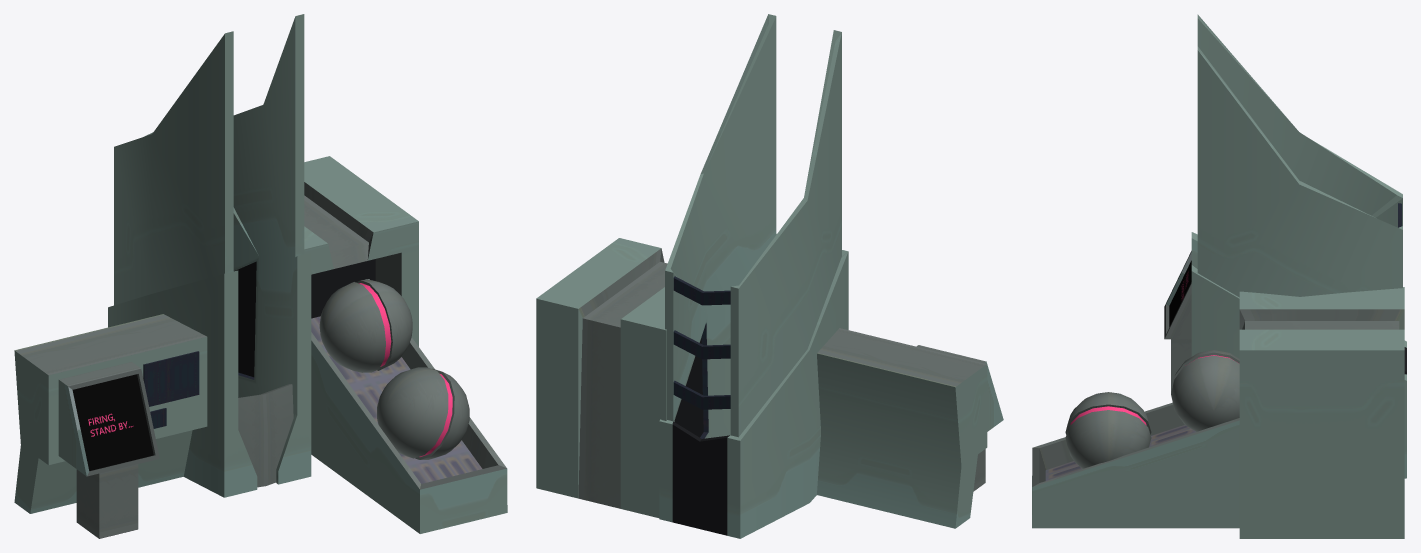
The model's file is AtlasCannon.fbx.
3 renders of one model, left to right at view 1: azimuth 30°, elevation 25°; view 2: azimuth 150°, elevation 25°; view 3: azimuth 270°, elevation 25°, orthographic. The views are drawn at different scales.
Parts seen in each view (by area): view 1: AtlasCannon, AtlasCannon.001; view 2: AtlasCannon; view 3: AtlasCannon, AtlasCannon.001.
Boxes of the visible parts, x1,y1,x2,y2 form: AtlasCannon: (14,14,507,538); AtlasCannon.001: (72,374,153,470); AtlasCannon: (536,14,1003,538); AtlasCannon: (1032,14,1406,538); AtlasCannon.001: (1169,260,1191,326).
Bounding box in the file's own units: 380 × 438 × 348.
